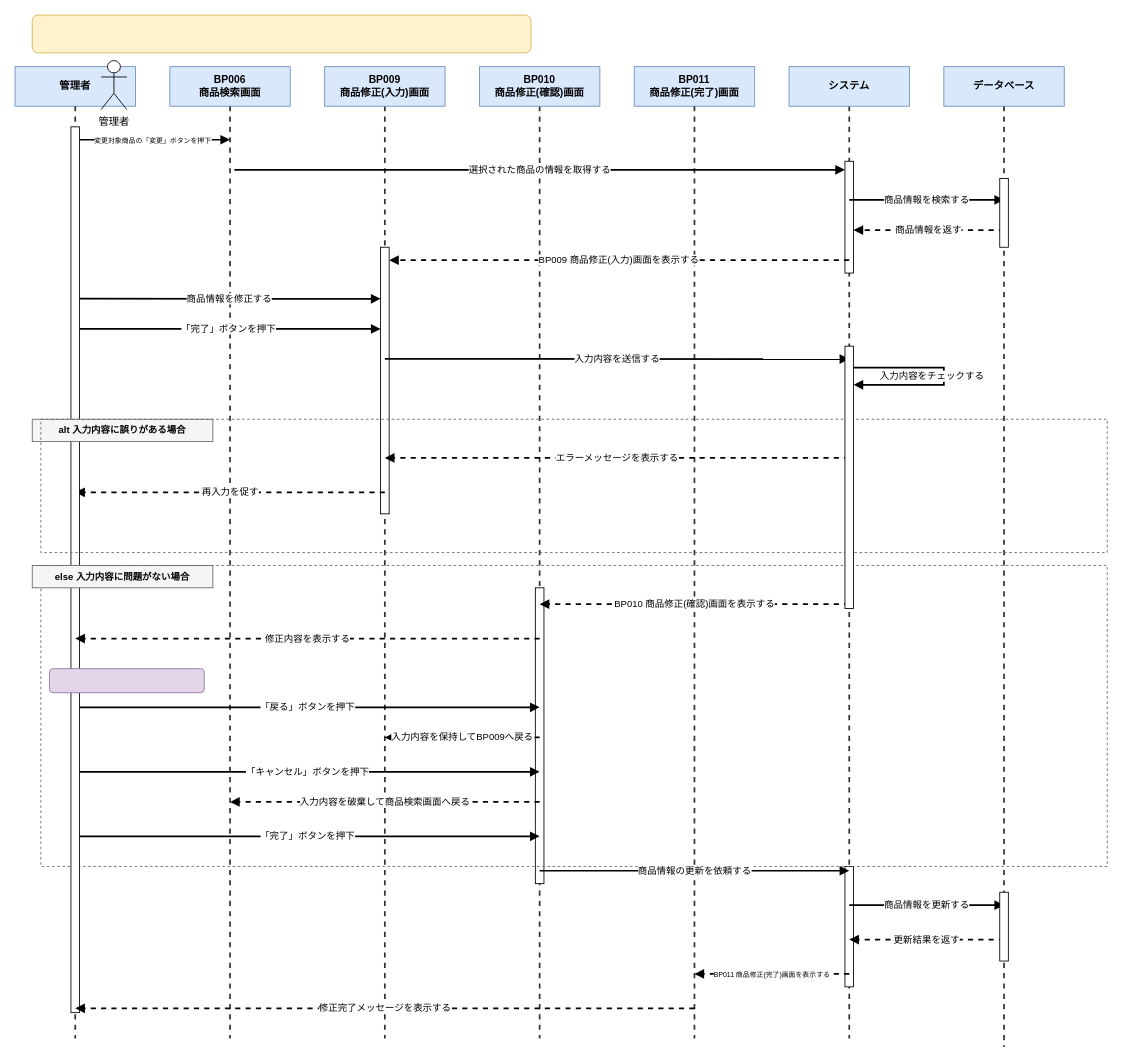
Some shapes in this 1122 by 1063 pixel diagram are drawn without their labels. Each missing label, with the centre of its shape:
"前提：担当者ログイン済み。商品検索画面に商品一覧が表示されている。" goes at [281,33].
"確認画面での操作" goes at [126,680].
